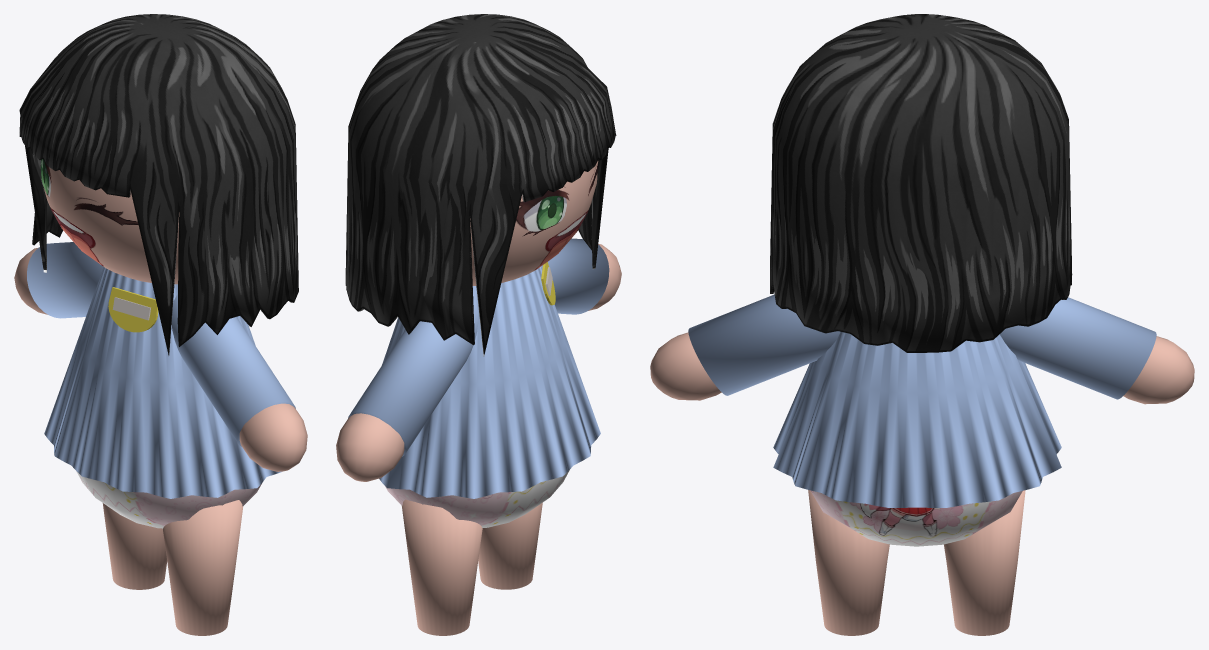
File: saradiaperdoll.glb
3 views of the same model, side by side, from view 1: azimuth 30°, elevation 25°; view 2: azimuth 150°, elevation 25°; view 3: azimuth 270°, elevation 25° (orthographic). The views are drawn at different scales.
Visible parts, largest first — view 1: head.001, head.002, head.003, arms, Cylinder, Cylinder.001; view 2: head.001, head.002, head.003, arms; view 3: head.001, head.002, head.003, arms.
Boxes of the visible parts, bbox=[...] form: head.001: bbox=[19, 14, 298, 355]; head.002: bbox=[44, 267, 281, 498]; head.003: bbox=[14, 159, 307, 635]; arms: bbox=[27, 242, 295, 446]; Cylinder: bbox=[108, 287, 158, 332]; Cylinder.001: bbox=[112, 297, 150, 320]; head.001: bbox=[345, 14, 616, 356]; head.002: bbox=[379, 266, 600, 498]; head.003: bbox=[336, 161, 621, 635]; arms: bbox=[348, 238, 609, 456]; head.001: bbox=[770, 14, 1072, 352]; head.002: bbox=[773, 332, 1061, 507]; head.003: bbox=[650, 332, 1194, 635]; arms: bbox=[688, 294, 1156, 399].
Size of the model in its own units: 2.36 by 5.7 by 4.75.
Materials: 8 (3 with a texture image).
